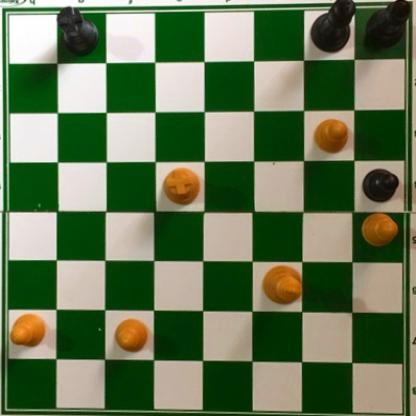black-bishop: (362, 1, 410, 49)
black-king: (308, 1, 358, 56)
black-pawn: (360, 167, 399, 202)
black-rook: (52, 2, 97, 55)
white-king: (260, 264, 303, 309)
white-pawn: (360, 210, 400, 249), (7, 310, 49, 345), (112, 315, 150, 353), (313, 118, 351, 154)
white-rook: (160, 164, 200, 205)
